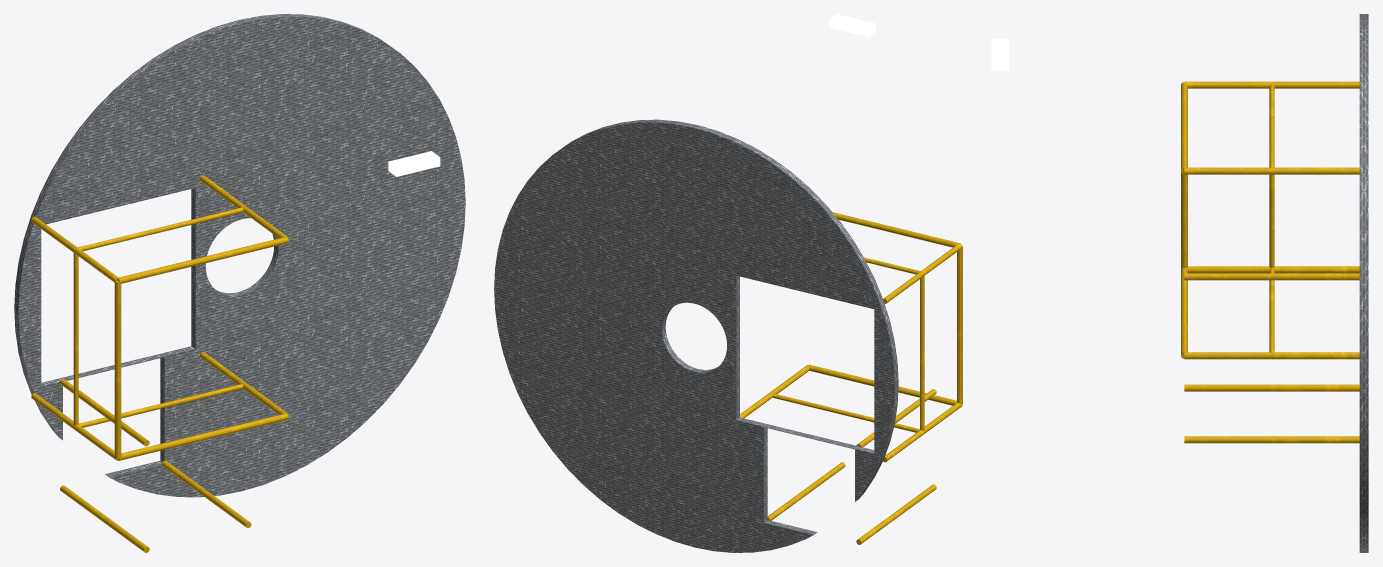
The model's file is platform_4.glb.
3 renders of one model, left to right at view 1: azimuth 30°, elevation 25°; view 2: azimuth 150°, elevation 25°; view 3: azimuth 270°, elevation 25°, orthographic. The views are drawn at different scales.
Visible parts, largest first — view 1: platform_4; view 2: platform_4; view 3: platform_4.
Boxes of the visible parts, x1,y1,x2,y2 form: platform_4: [14, 14, 465, 552]; platform_4: [494, 14, 962, 552]; platform_4: [991, 14, 1368, 552].
Size of the model in its own units: 3.08 by 3.08 by 2.15.
3 materials, 2 textured.
